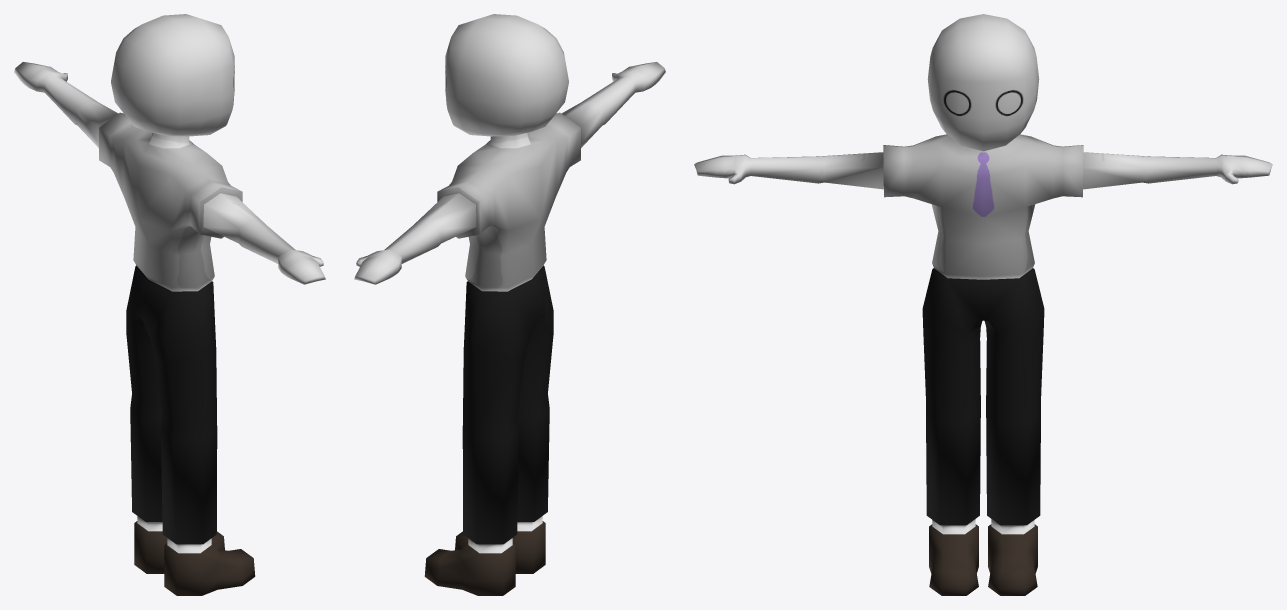
Rendered from PlayerCharacter.fbx.
3 renders of one model, left to right at view 1: azimuth 30°, elevation 25°; view 2: azimuth 150°, elevation 25°; view 3: azimuth 270°, elevation 25°, orthographic.
Parts seen in each view (by area): view 1: Body, Head; view 2: Body, Head; view 3: Body, Head.
Part boxes in pixels (box(x1,y1,x2,y2)): Body: box(14, 62, 325, 595); Head: box(111, 14, 234, 136); Body: box(354, 62, 665, 595); Head: box(445, 14, 568, 136); Body: box(694, 134, 1272, 595); Head: box(927, 14, 1039, 151).
Bounding box in the file's own units: 129 × 599 × 575.
Materials: 1 (1 with a texture image).
